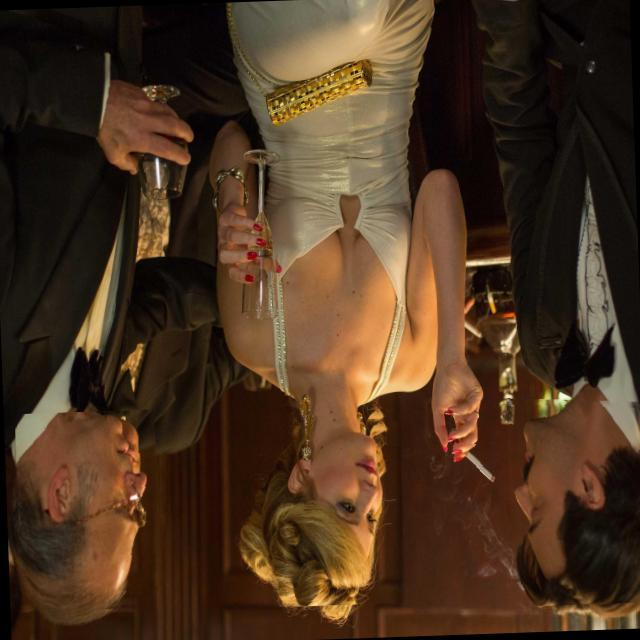cigarette: (454, 444, 496, 496)
